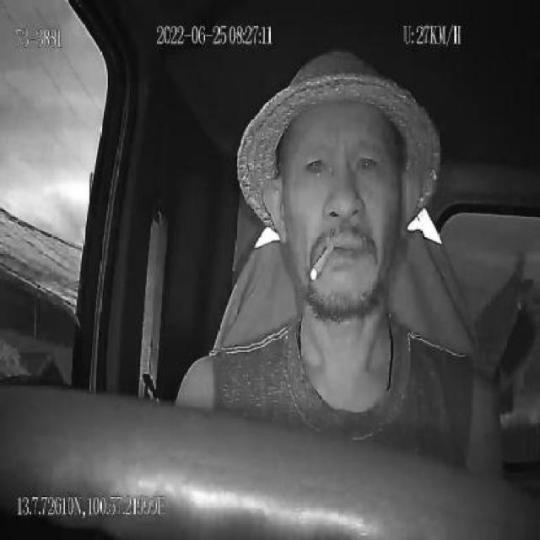smoking: (310, 244, 332, 282)
